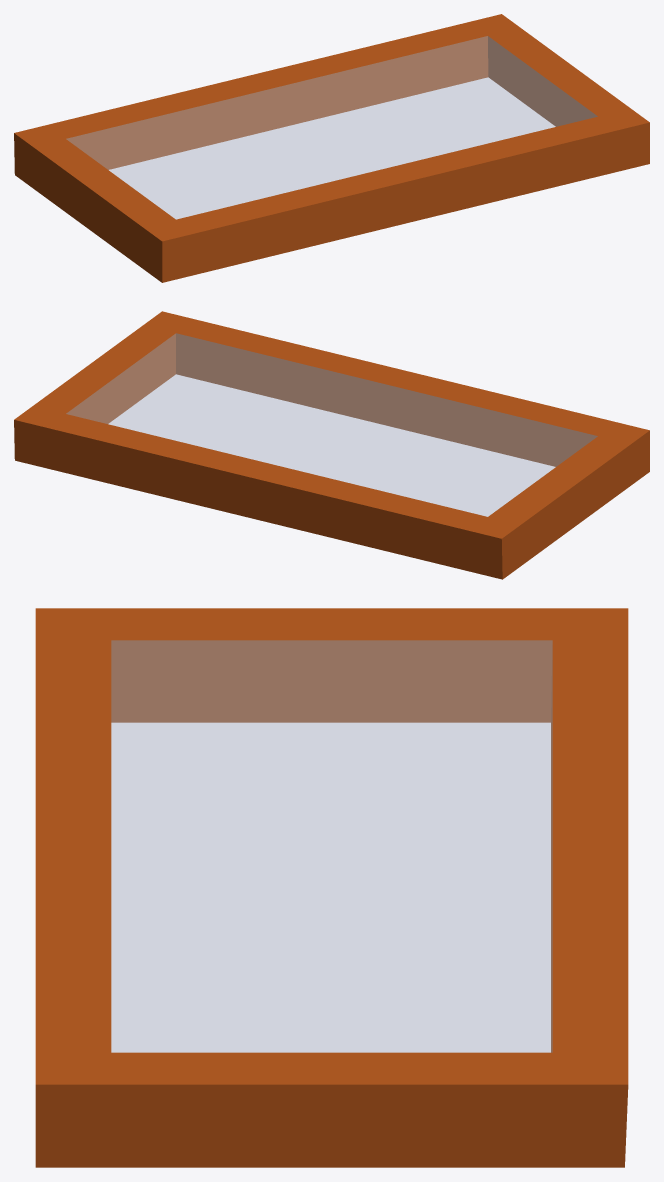
Rendered from small shelf with glass copper.glb.
3 renders of one model, top to bottom at view 1: azimuth 30°, elevation 25°; view 2: azimuth 150°, elevation 25°; view 3: azimuth 270°, elevation 25°, orthographic. The views are drawn at different scales.
Visible parts, largest first — view 1: floating shelf glass copper; view 2: floating shelf glass copper; view 3: floating shelf glass copper.
Boxes of the visible parts, x1=… form: floating shelf glass copper: x1=14, y1=14, x2=649, y2=282; floating shelf glass copper: x1=14, y1=311, x2=649, y2=579; floating shelf glass copper: x1=35, y1=608, x2=628, y2=1167.
Bounding box in the file's own units: 1.33 × 0.1081 × 0.7.
